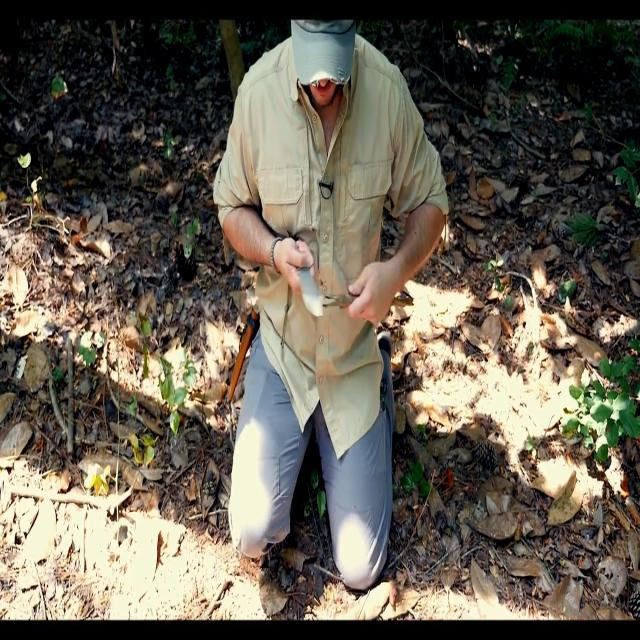knife: (297, 260, 328, 323)
